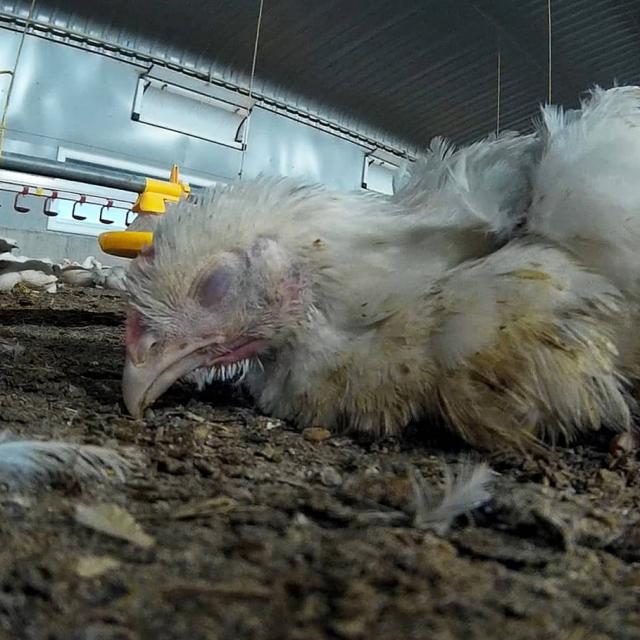Unhealthy: (109, 129, 640, 446)
